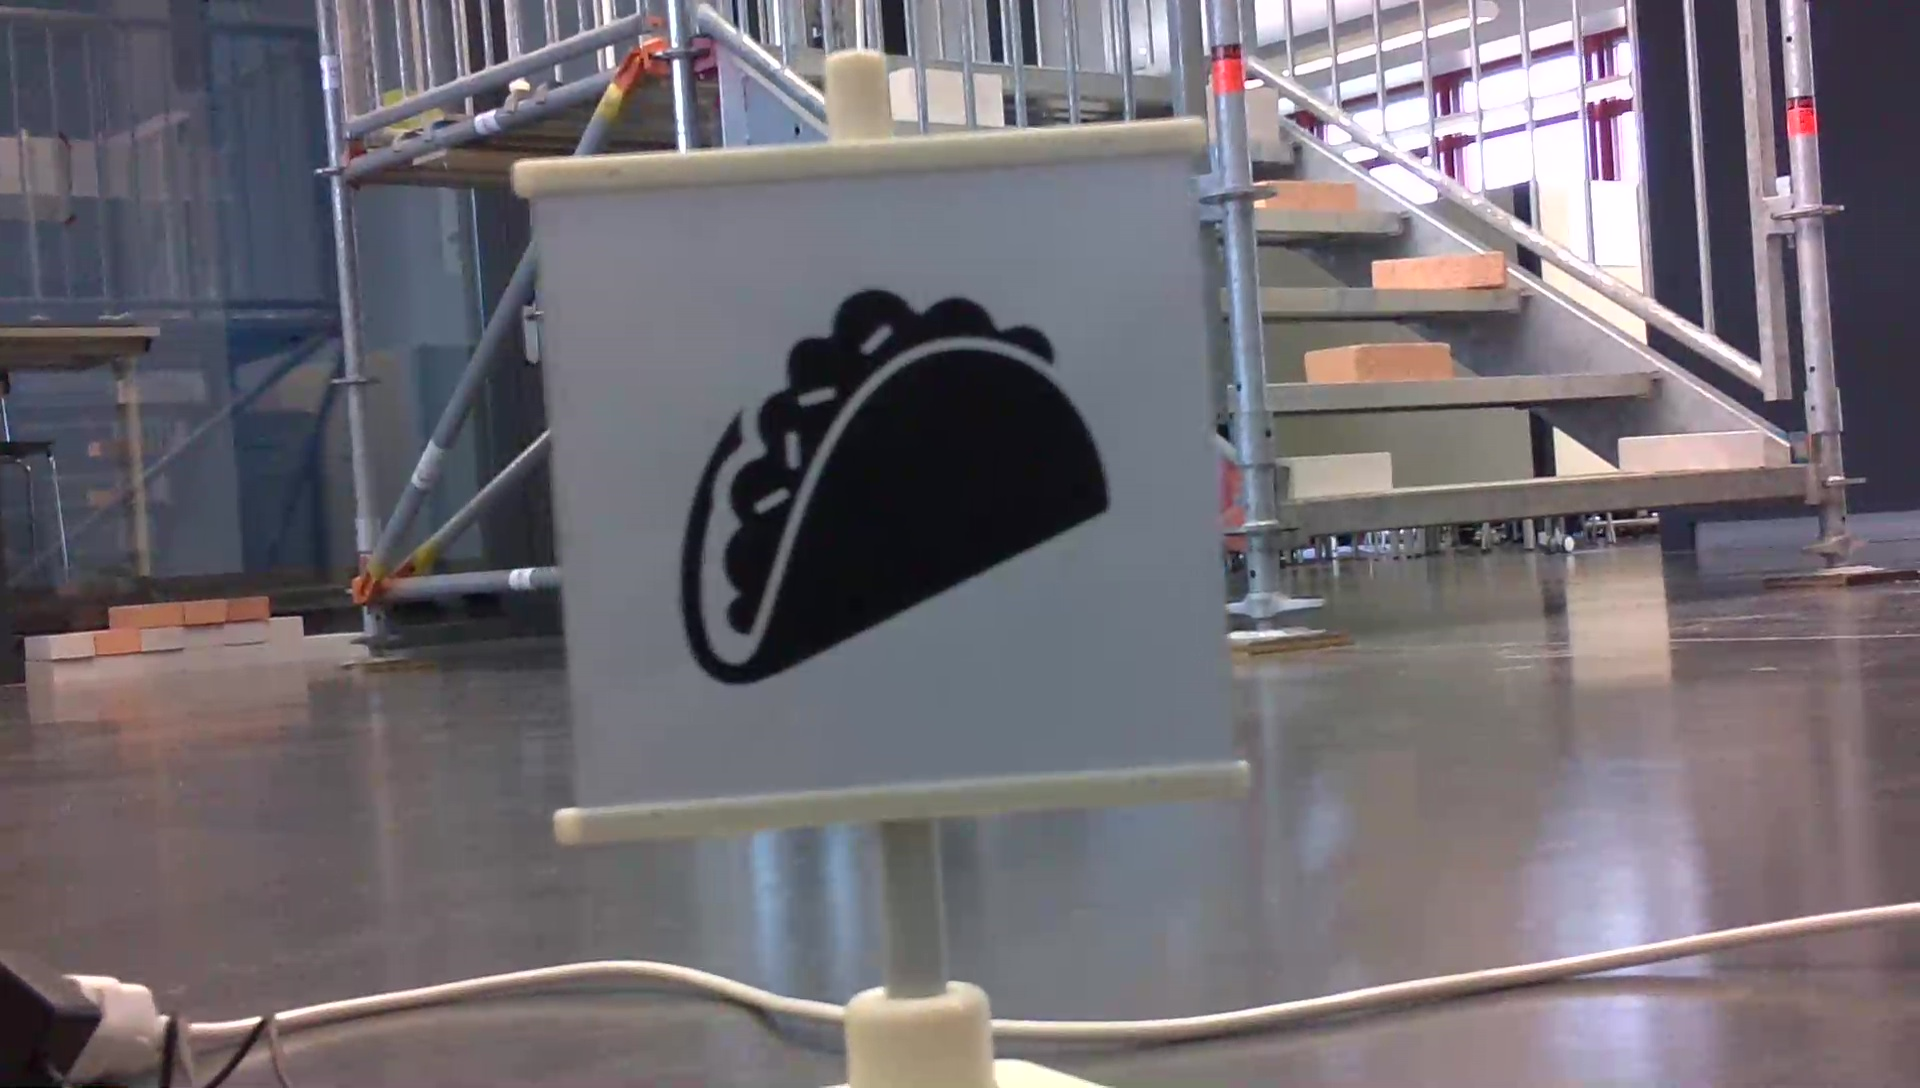brick: (1622, 433, 1764, 469), (1308, 346, 1449, 378), (1284, 455, 1390, 495), (1371, 255, 1505, 285), (1261, 181, 1354, 214), (1242, 87, 1278, 133)
edge: (1290, 466, 1808, 535), (1270, 368, 1665, 411)
taco: (665, 274, 1122, 695)
